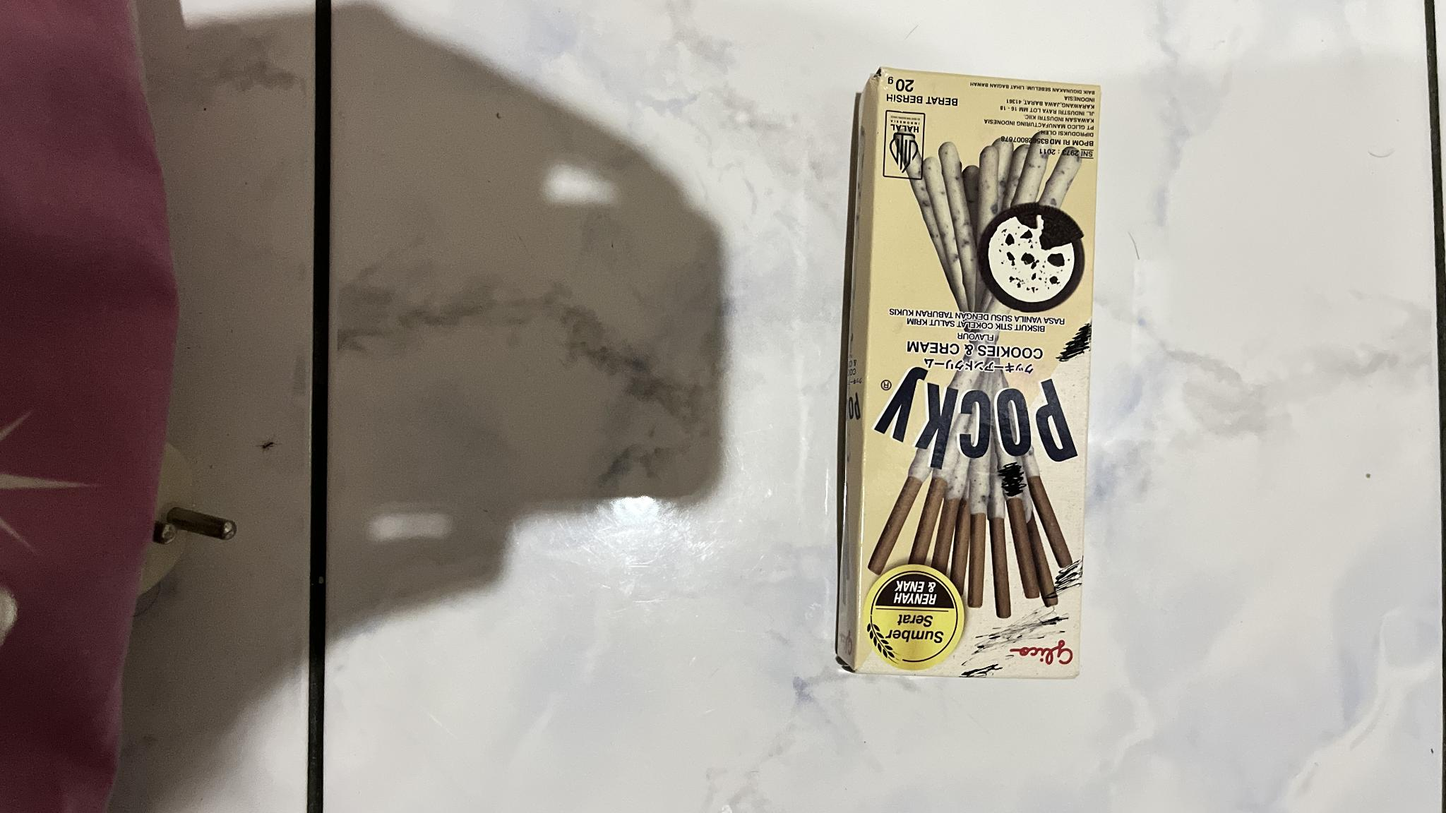Kertas: (852, 66, 1105, 674)
